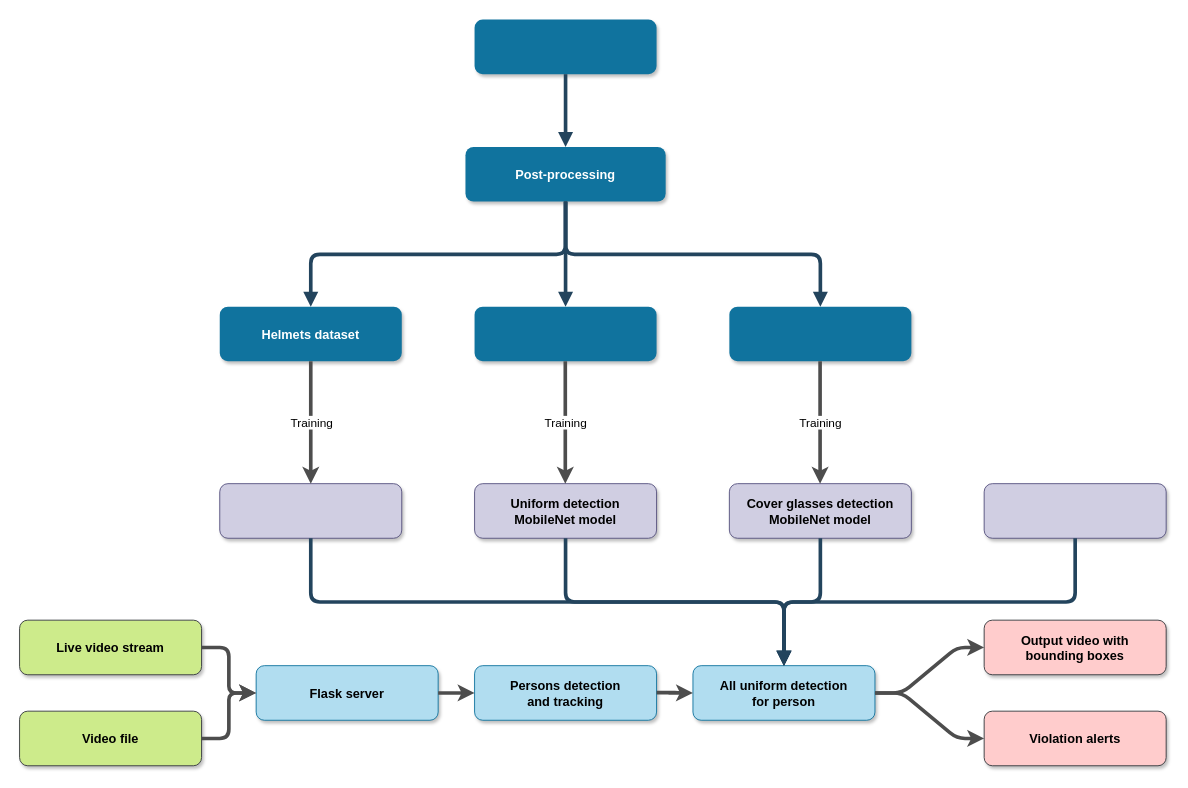
Image size: 1188x788. Some labels were removed from this diagram. The shapes that lost their labels are listed below. From the top down, each one's centre as x and y in pixels, then its label:
At pixel 566 47: "Person segmentation DeepLab v3".
At pixel 566 335: "Uniform dataset".
At pixel 820 335: "Cover glasses dataset".
At pixel 311 512: "Helmet detection MobileNet model".
At pixel 1076 512: "Cover glasses detection heuristic model".
